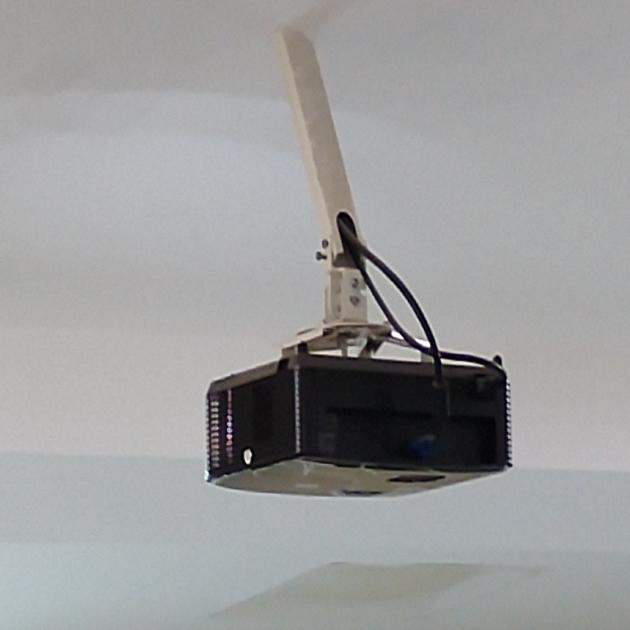projector: (168, 133, 598, 630)
